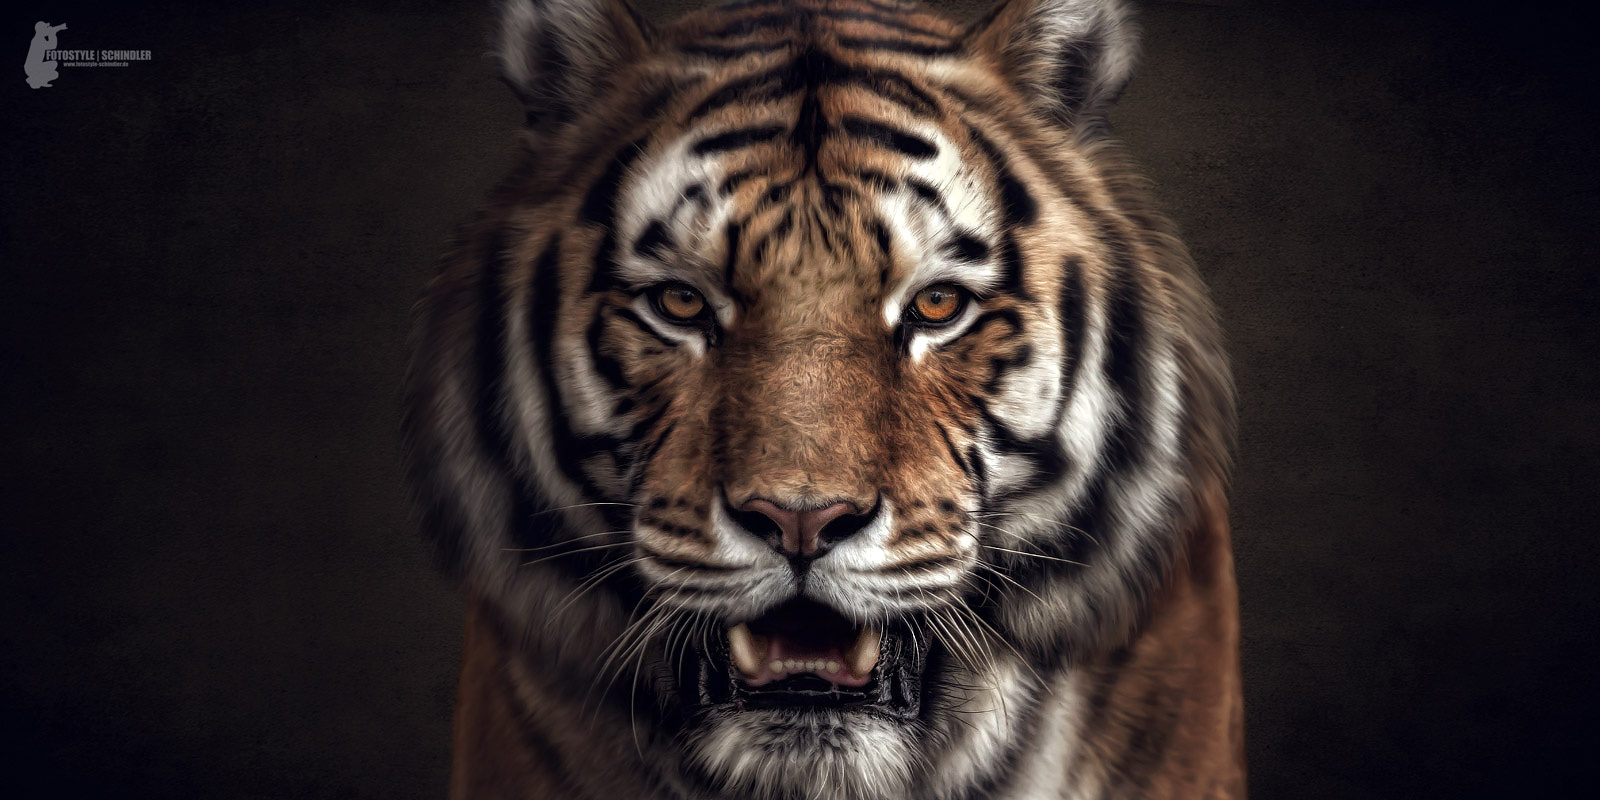tiger: (438, 24, 1244, 701)
